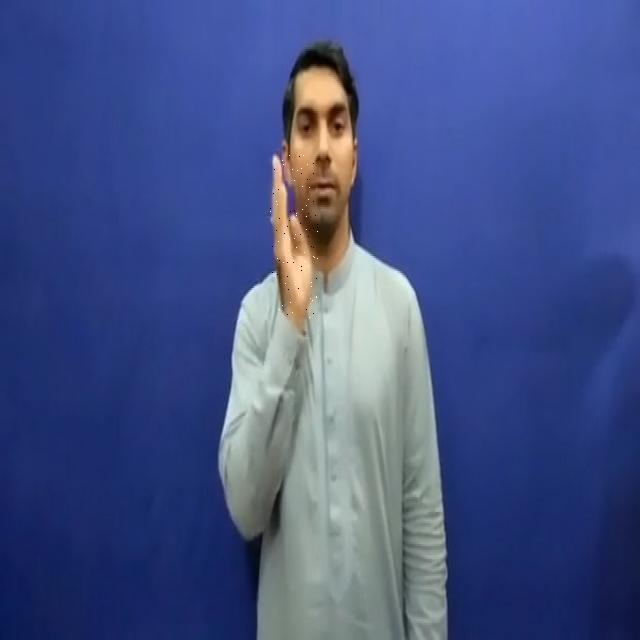napkin: (270, 152, 318, 318)
